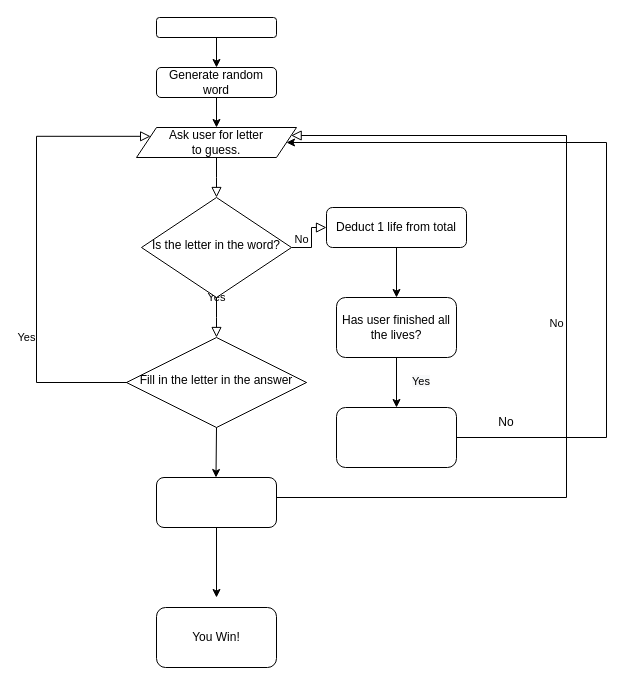
Image size: 632x685. Some labels were removed from this diagram. The centre of each missing label's shape, as x and y in pixels:
"Are all the letters filled up in the question?" goes at [216,502].
"Game over." goes at [396,437].
"Start" goes at [216,27].
